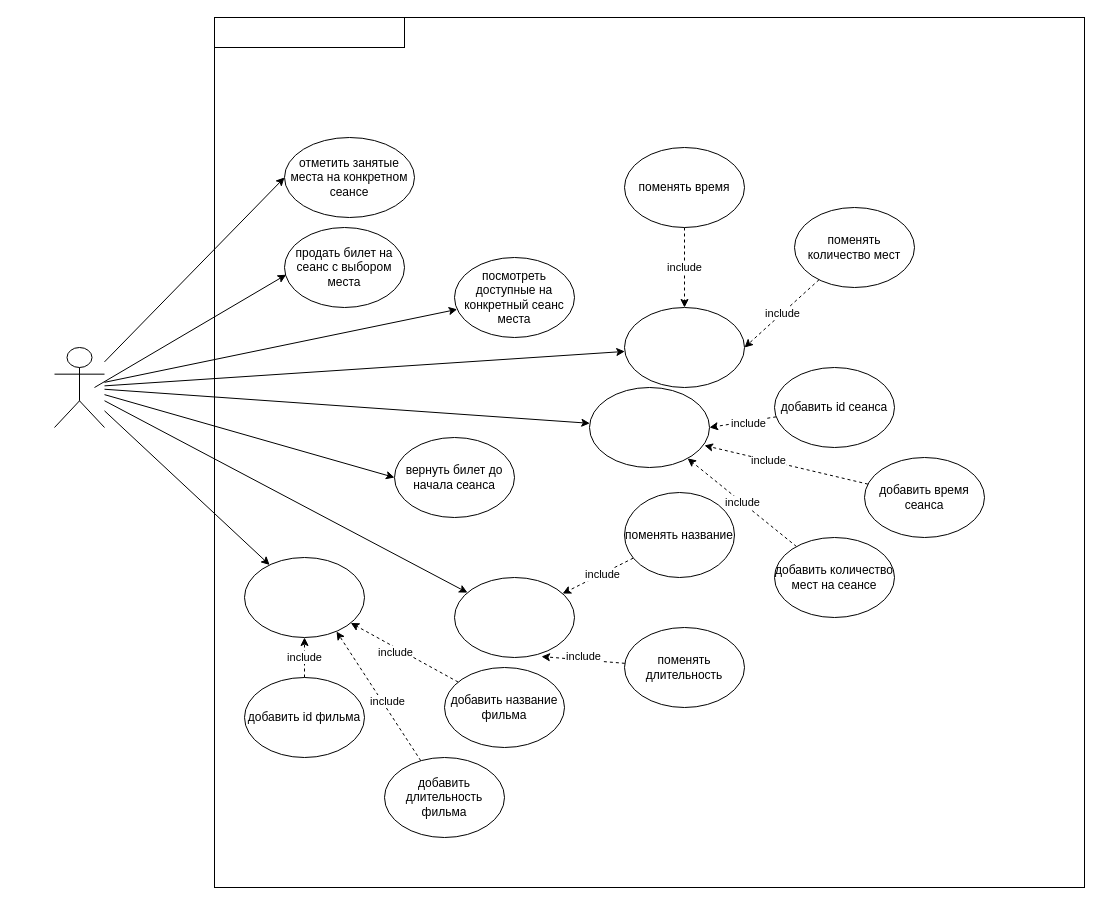
This 1102x905 diagram has some shape labels left out. The centre of each missing label's shape, as x and y in pixels:
"добавить сеанс" belongs at pixel 649 427.
"добавить фильм" belongs at pixel 304 597.
"редактировать сеанс" belongs at pixel 684 347.
"редактировать фильм" belongs at pixel 514 617.
"Система для управления кинотеатром" belongs at pixel 309 32.
"Сотрудник кинотеатра" belongs at pixel 79 387.
